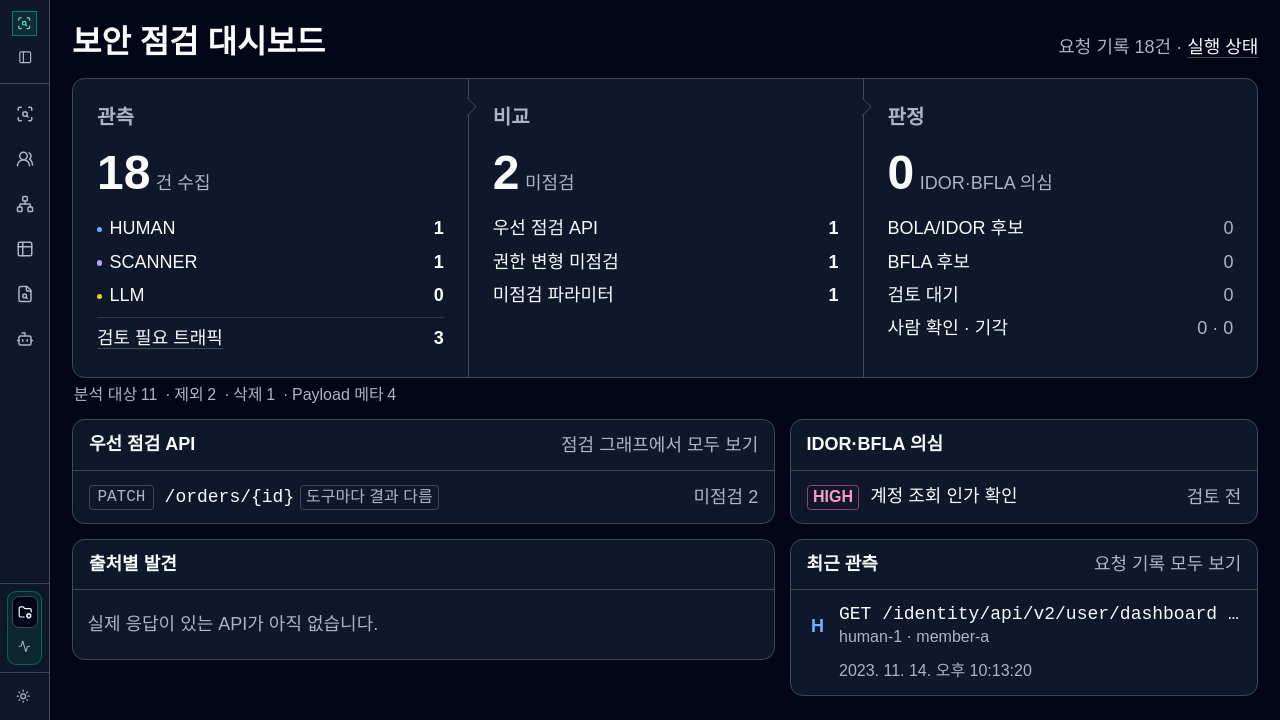
Test: dashboard shell › does not fabricate operational zero or connected states when HUMAN and scanner queries fail
Expected: the heading "보안 점검 대시보드" is shown, [72, 22, 325, 63]
Click the button named "실시간 상태": (25,646) [12, 632, 38, 660]
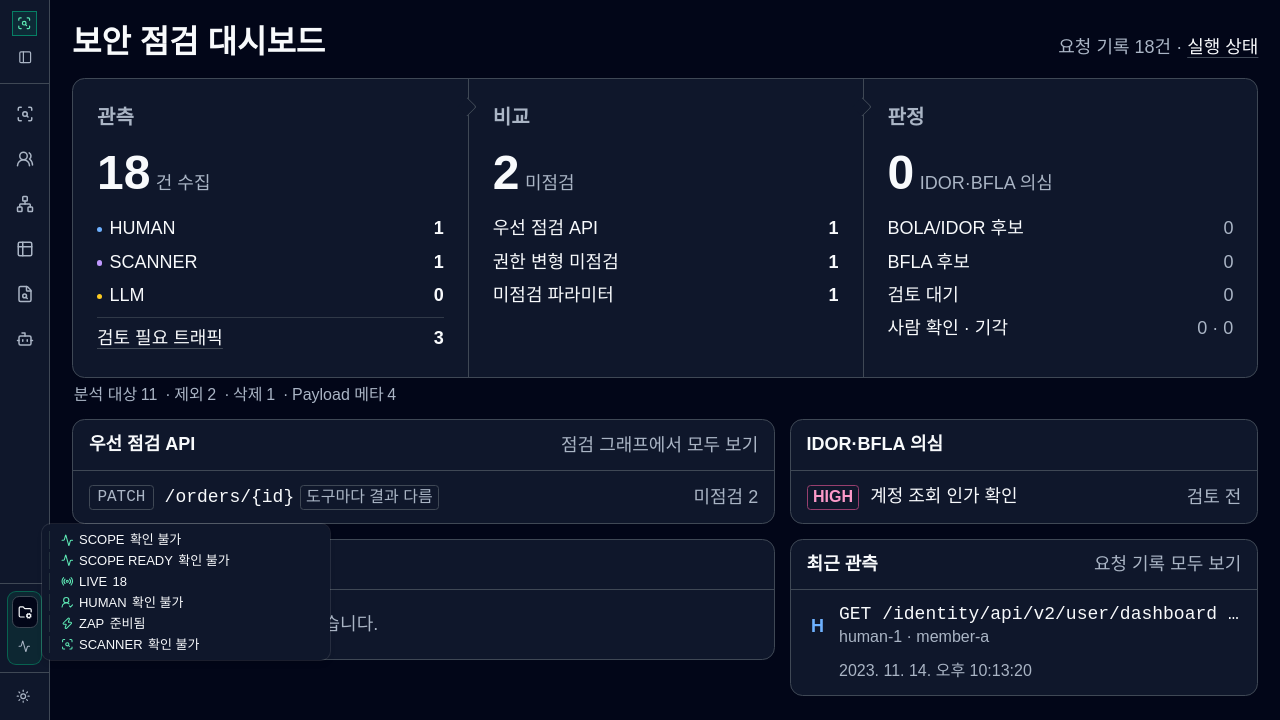
Now the element named "HUMAN 상태" shows "확인 불가", box [132, 595, 184, 610]
Now the element named "SCANNER 상태" shows "확인 불가", box [148, 637, 199, 652]
